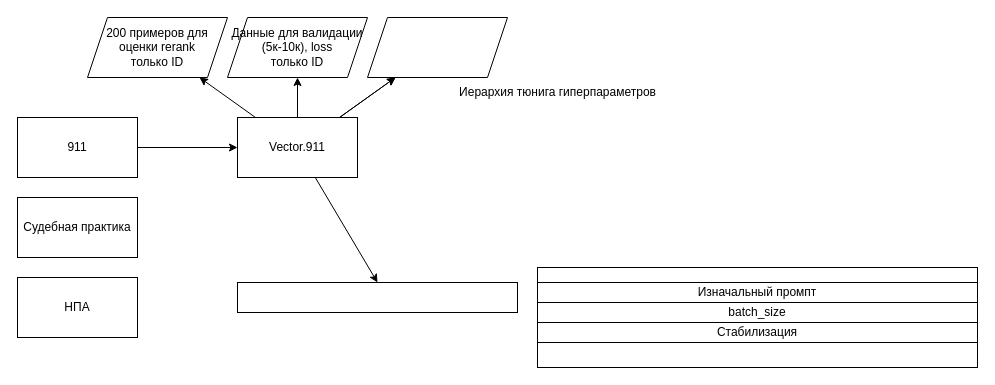
Some shapes in this 995 by 385 pixel diagram are drawn without their labels. Here are the shapes that lost their labels. From the top down, the centre of each, then its label:
point 437,47: Бенчмарк 200 примеров Только ID.
point 757,274: LR на 10 тыс. примерах
point 377,297: Выбор модели | Few-Shot/Zero-shot | reranker
point 757,355: Размер датасета (1-5-10-15) Кол-во обучаемых параметров (4-8-16-32)
